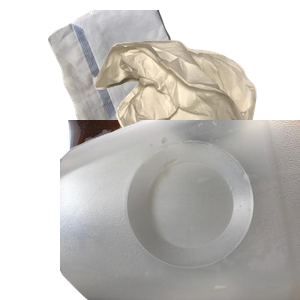glass: (65, 120, 300, 300)
paper: (45, 10, 251, 190)
plastic: (60, 120, 300, 300)
trash: (90, 38, 300, 183)
